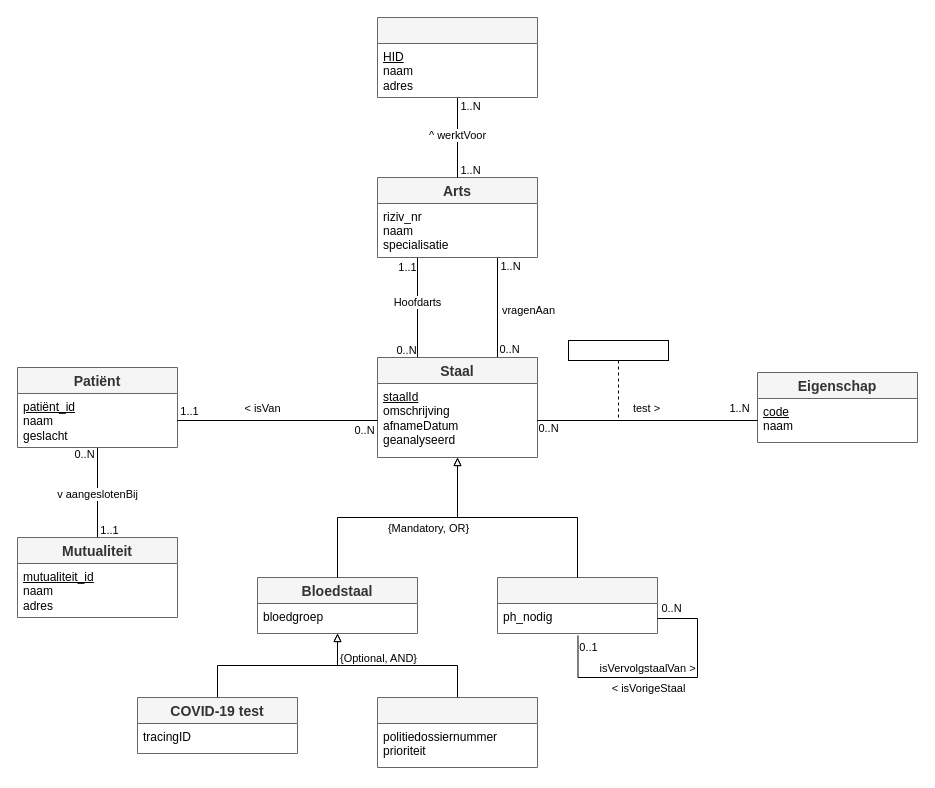
Image size: 935x788. Some labels were removed from this diagram. The box of each missing label's shape, as (x1, y1, x2, y2) in pixels:
Gerechtelijk onderzoek: (376, 696, 538, 768)
Hospitaal: (376, 16, 538, 98)
Urinestaal: (496, 576, 658, 634)
waarde: (568, 340, 668, 360)
